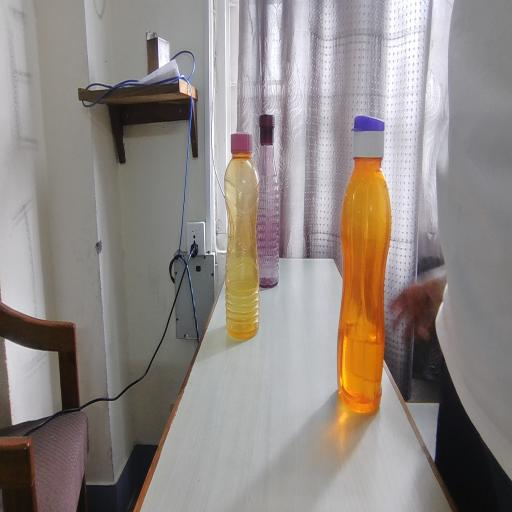Bottle: (340, 107, 397, 414), (228, 124, 273, 338)
